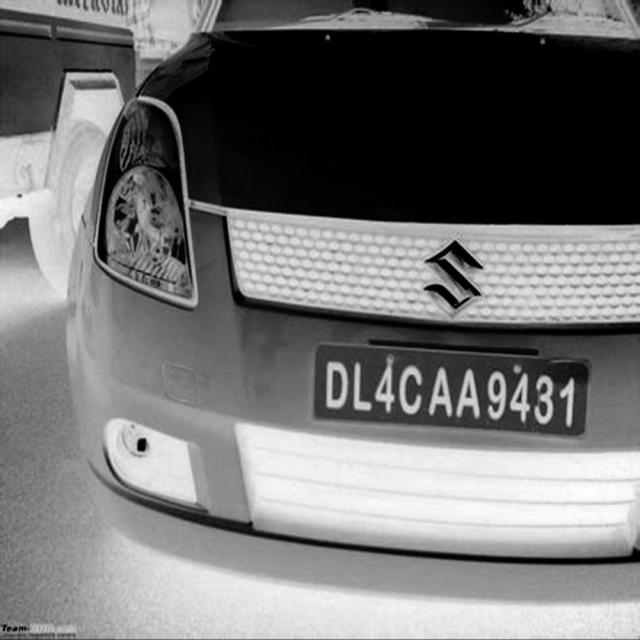Non_registered: (319, 342, 579, 448)
